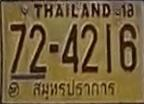1: (106, 24, 112, 68)
2: (29, 24, 48, 73), (80, 24, 98, 74)
4: (61, 23, 78, 72)
6: (119, 23, 136, 71)
7: (10, 23, 25, 73)
SPK: (30, 79, 117, 101)
